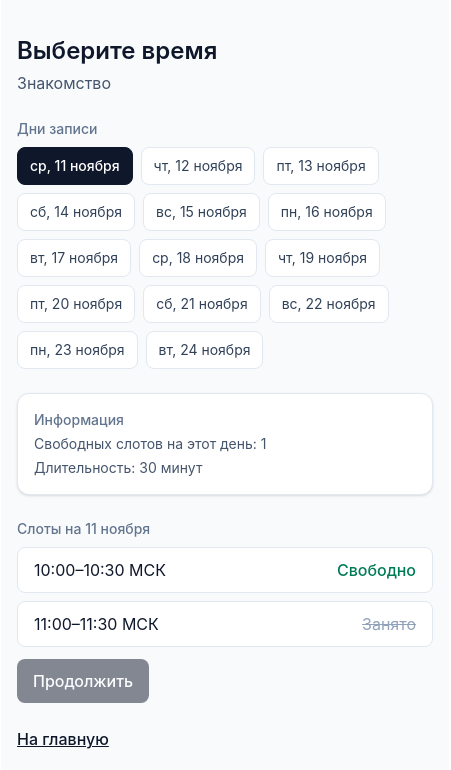
Test: Страница записи › отправляет бронь с выбранным слотом и данными гостя
Click the button "10:00–10:30 МСК Свободно" at (100,570), box left=17, top=547, right=433, bottom=593
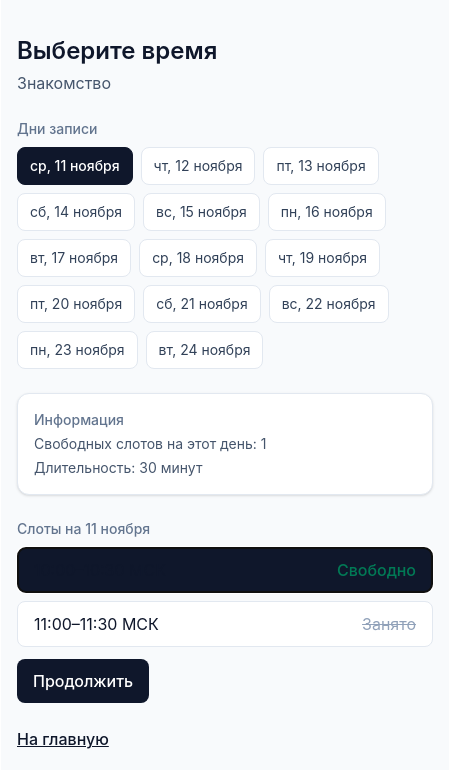
Click the button "Продолжить" at (83,681), box left=17, top=659, right=149, bottom=703
(page scrolled)
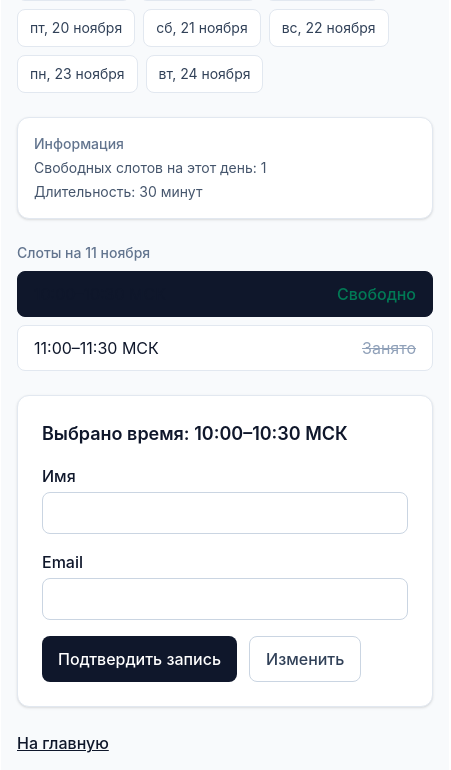
Type "Анна" into the field labelled "Имя" at (225,513), box left=42, top=492, right=408, bottom=534
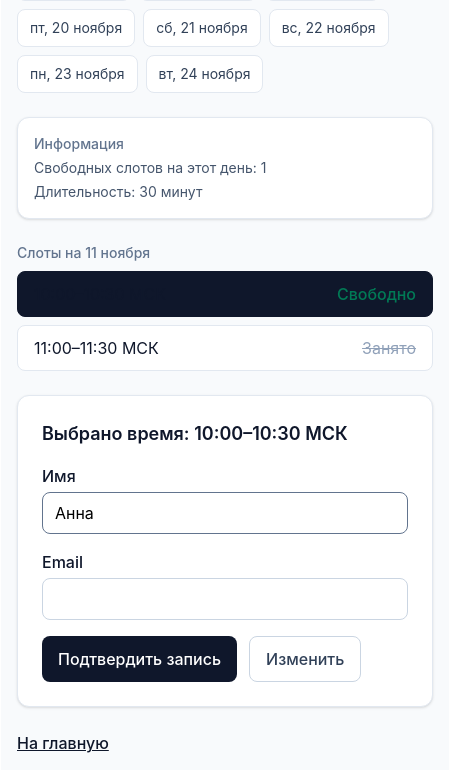
Type "anna@example.com" into the field labelled "Email" at (225,599), box left=42, top=578, right=408, bottom=620
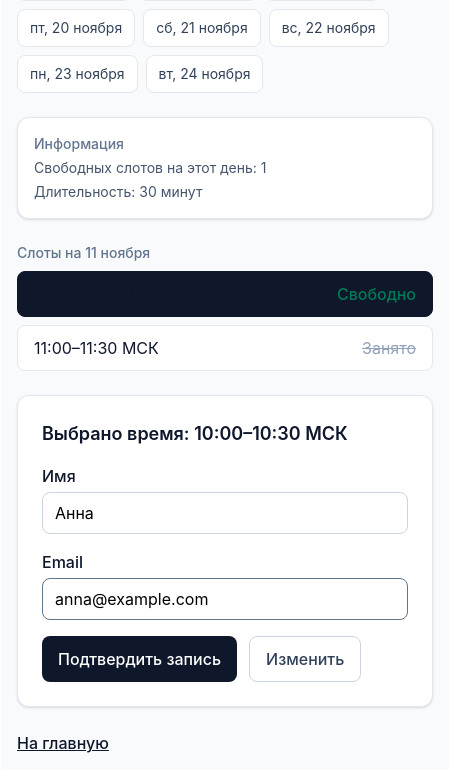
Click the button "Подтвердить запись" at (140,659), box left=42, top=636, right=237, bottom=682
(page scrolled)
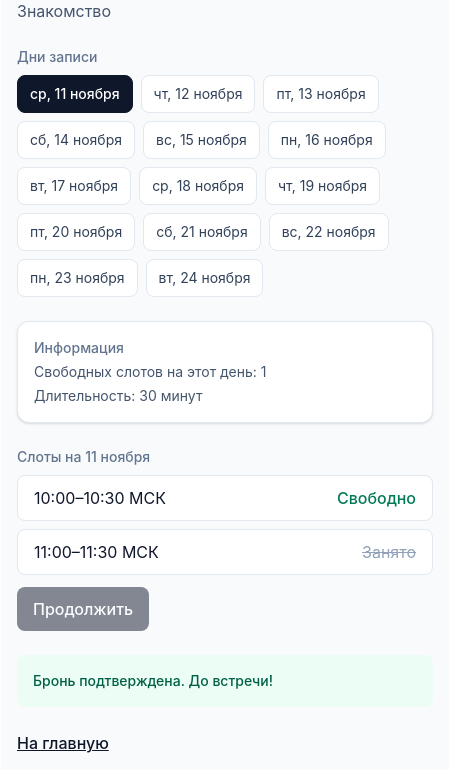
Result: the message "Бронь подтверждена. До встречи!" is shown at left=17, top=655, right=433, bottom=707
